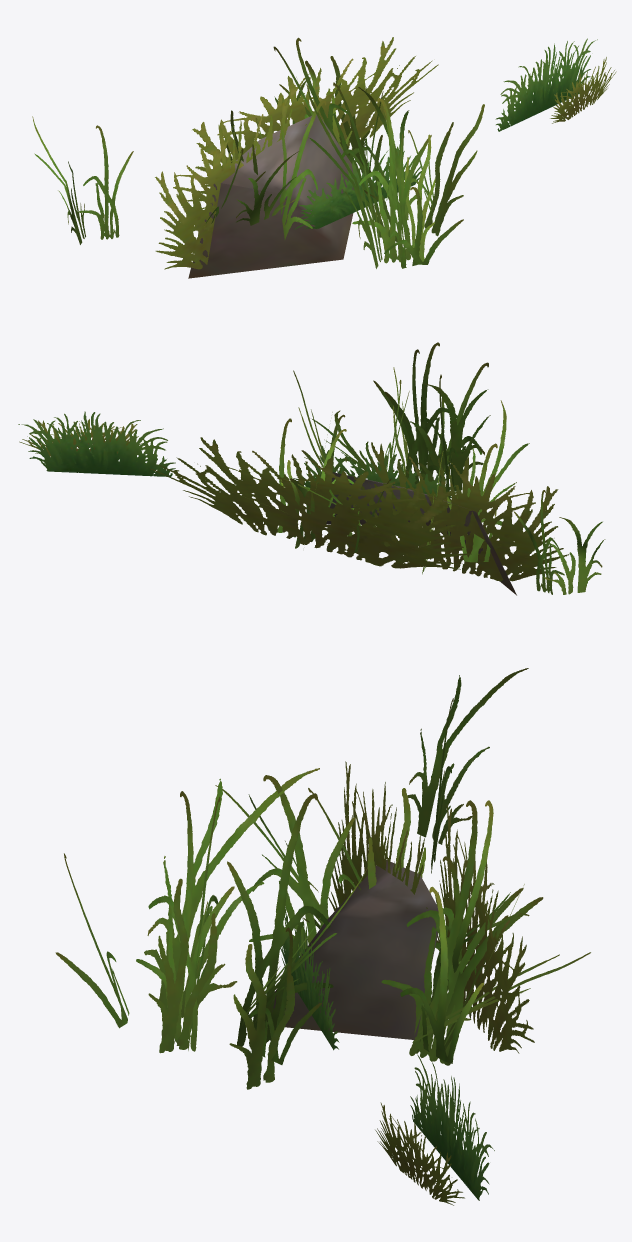
The model's file is choose5_cao01_55_49_9133out.fbx.
3 views of the same model, one above another, from view 1: azimuth 30°, elevation 25°; view 2: azimuth 150°, elevation 25°; view 3: azimuth 270°, elevation 25° (orthographic). The views are drawn at different scales.
Visible parts, largest first — view 1: choose5_cao01; view 2: choose5_cao01; view 3: choose5_cao01.
Part boxes in pixels (bbox=[...]): choose5_cao01: bbox=[32, 37, 616, 278]; choose5_cao01: bbox=[18, 342, 605, 595]; choose5_cao01: bbox=[55, 668, 590, 1205].
Size of the model in its own units: 4.81 by 1.5 by 2.77.
